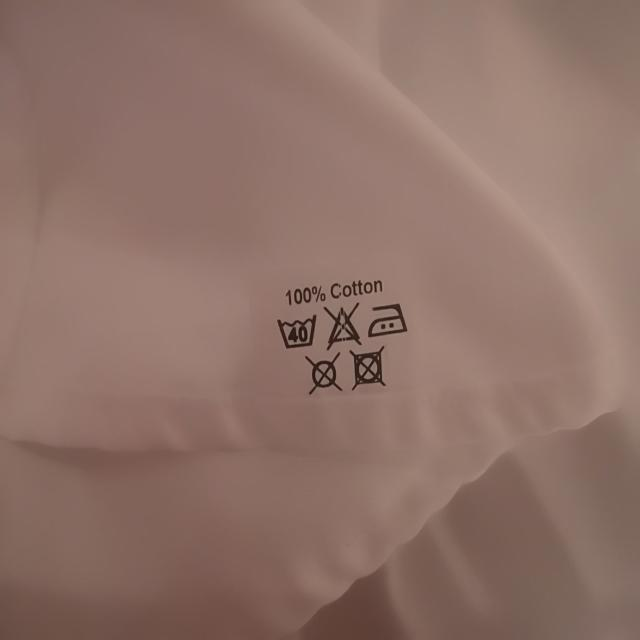40C: (279, 313, 320, 350)
DN_bleach: (324, 302, 364, 348)
DN_dry_clean: (304, 352, 344, 396)
DN_tumble_dry: (348, 346, 386, 393)
iron_medium: (367, 300, 413, 340)
